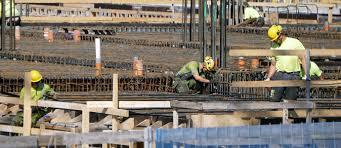safe person: (267, 24, 327, 79), (173, 57, 220, 86), (27, 73, 58, 99)
